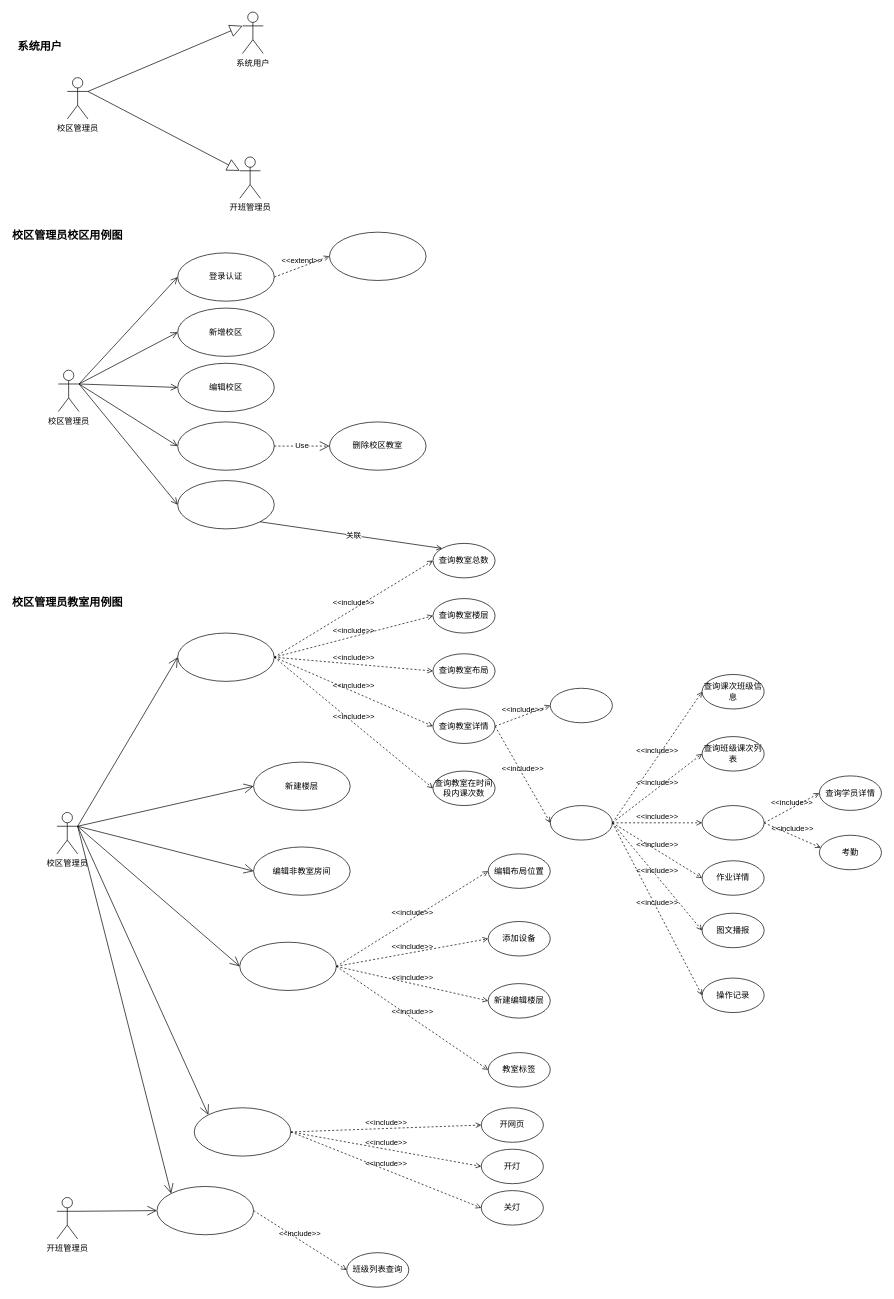
Some shapes in this 894 by 1299 pixel diagram are drawn without their labels. Each missing label, with the box of its shape:
一键保护: (194, 1107, 291, 1156)
删除校区: (177, 421, 274, 470)
开班: (156, 1186, 254, 1235)
教务后台登录认证: (329, 231, 426, 280)
教室信息: (550, 688, 612, 723)
新增编辑校区教室: (239, 942, 336, 990)
查询教室课表: (550, 805, 612, 840)
查询校区列表: (177, 480, 274, 529)
查询校区教室: (177, 632, 274, 681)
查询课次下学员列表: (701, 805, 764, 840)
